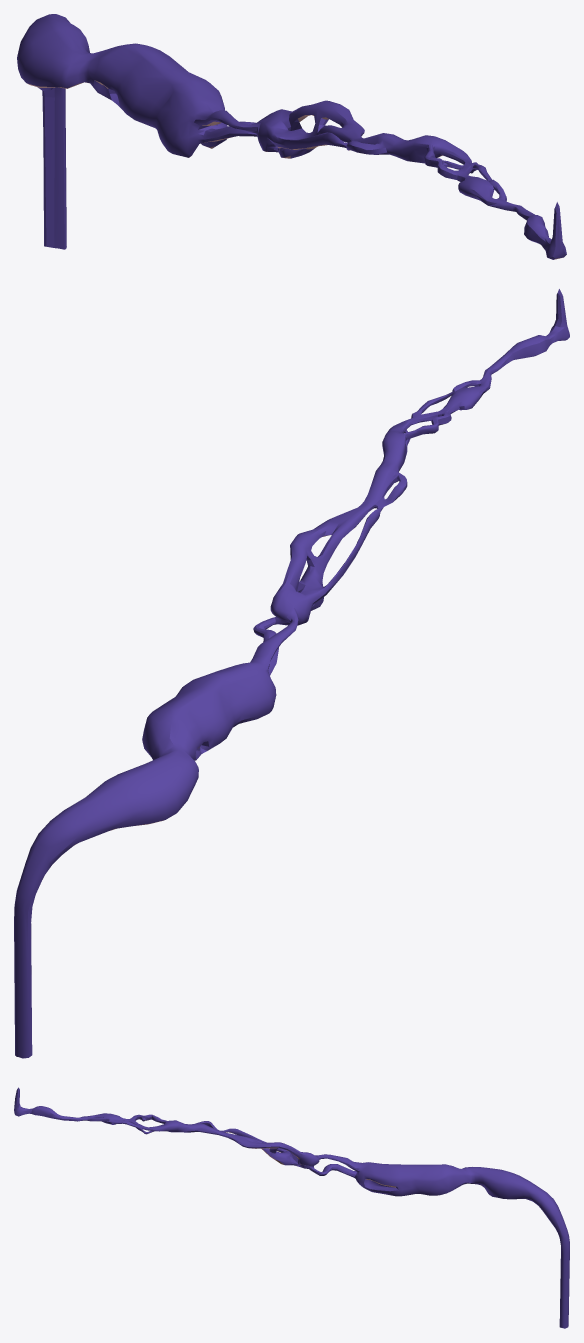
Rendered from Tunnel_6.fbx.
3 views of the same model, one above another, from view 1: azimuth 30°, elevation 25°; view 2: azimuth 150°, elevation 25°; view 3: azimuth 270°, elevation 25° (orthographic). The views are drawn at different scales.
Visible parts, largest first — view 1: Tunnel_6; view 2: Tunnel_6; view 3: Tunnel_6.
Part boxes in pixels (left/top/right/bottom): Tunnel_6: left=17, top=14, right=566, bottom=259; Tunnel_6: left=14, top=289, right=569, bottom=1058; Tunnel_6: left=14, top=1087, right=569, bottom=1328.
Bounding box in the file's own units: 12934 × 51037 × 112616.
